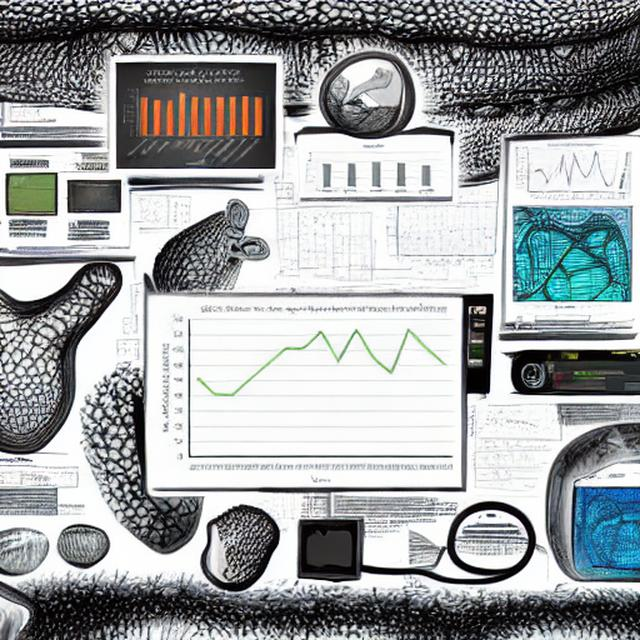Graph: (149, 301, 459, 485), (120, 67, 267, 169), (384, 202, 495, 267), (308, 141, 440, 195), (513, 142, 617, 202), (467, 404, 538, 445), (69, 182, 121, 213)
